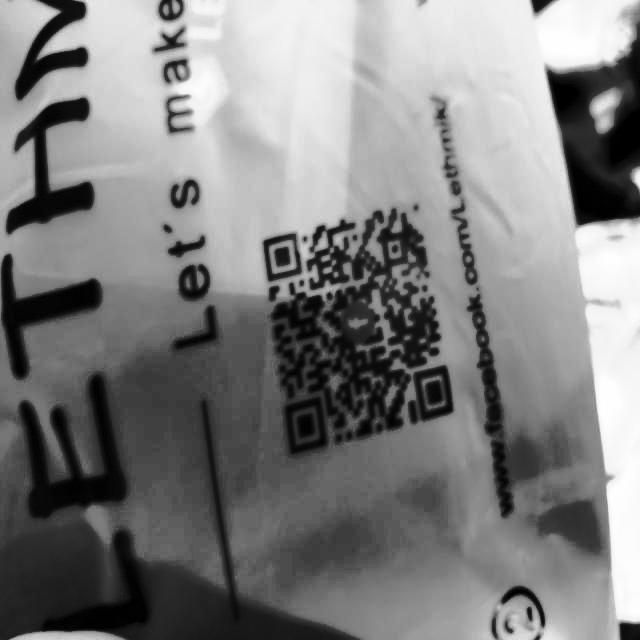qr_code: (250, 189, 467, 463)
